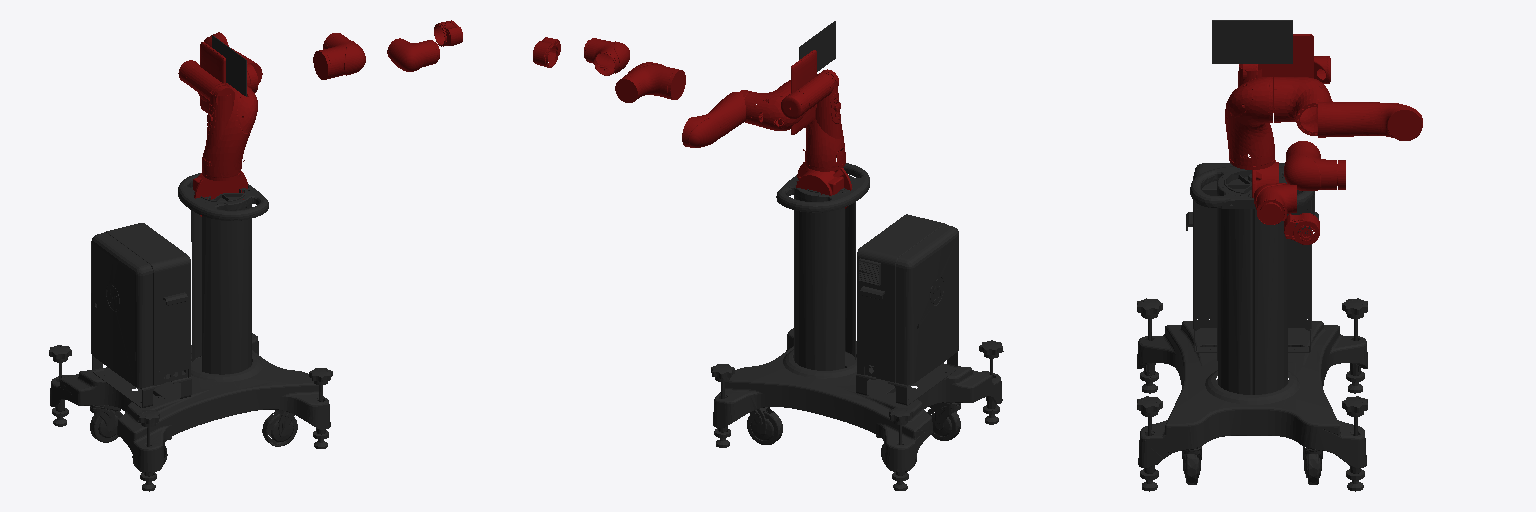
robot.urdf — sawyer:
<?xml version="1.0" ?>
<!-- =================================================================================== -->
<!-- |    This document was autogenerated by xacro from ./urdf.xacro                   | -->
<!-- |    EDITING THIS FILE BY HAND IS NOT RECOMMENDED                                 | -->
<!-- =================================================================================== -->
<robot name="sawyer" xmlns:xacro="http://www.ros.org/wiki/xacro">
  <material name="black">
    <color rgba="0 0 0 1"/>
  </material>
  <material name="darkgray">
    <color rgba=".2 .2 .2 1"/>
  </material>
  <material name="darkred">
    <color rgba=".5 .1 .1 1"/>
  </material>
  <material name="sawyer_red">
    <color rgba=".5 .1 .1 1"/>
  </material>
  <material name="sawyer_gray">
    <color rgba="0.75294 0.75294 0.75294 1"/>
  </material>
  <link name="base"/>
  <link name="torso">
    <visual>
      <origin rpy="0 0 0" xyz="0 0 0"/>
      <geometry>
        <box size="0 0 0"/>
      </geometry>
      <material name="darkgray">
        <color rgba=".2 .2 .2 1"/>
      </material>
    </visual>
    <inertial>
      <origin rpy="0 0 0" xyz="0.000000 0.000000 0.000000"/>
      <mass value="0.0001"/>
      <inertia ixx="1e-08" ixy="0" ixz="0" iyy="1e-08" iyz="0" izz="1e-08"/>
    </inertial>
  </link>
  <link name="pedestal">
    <visual>
      <origin rpy="1.57079632679 0 -1.57079632679" xyz="0.26 0.345 -0.91488"/>
      <geometry>
        <mesh filename="data/robot/rethink/sawyer_rs/sawyer/pedestal.obj"/>
      </geometry>
      <material name="darkgray"/>
    </visual>
    <collision>
      <origin rpy="0 0 0" xyz="0 0 -0.30"/>
      <geometry>
        <cylinder length="0.62" radius="0.18"/>
      </geometry>
    </collision>
    <inertial>
      <origin rpy="0 0 0" xyz="0 0 0"/>
      <mass value="60.86397744"/>
      <inertia ixx="5.0635929" ixy="0.00103417" ixz="0.80199628" iyy="6.08689388" iyz="0.00105311" izz="4.96191932"/>
    </inertial>
  </link>
  <link name="controller_box">
    <collision>
      <origin rpy="0 0 0" xyz="-0.325 0 -0.38"/>
      <geometry>
        <box size="0.22 0.4 0.53"/>
      </geometry>
    </collision>
  </link>
  <joint name="controller_box_fixed" type="fixed">
    <origin rpy="0 0 0" xyz="0.0 0.0 0.0"/>
    <parent link="base"/>
    <child link="controller_box"/>
  </joint>
  <link name="pedestal_feet">
    <collision>
      <origin rpy="0 0 0" xyz="-0.1225 0 -0.758"/>
      <geometry>
        <box size="0.77 0.7 0.31"/>
      </geometry>
    </collision>
  </link>
  <joint name="pedestal_feet_fixed" type="fixed">
    <origin rpy="0 0 0" xyz="0.0 0.0 0.0"/>
    <parent link="base"/>
    <child link="pedestal_feet"/>
  </joint>
  <joint name="torso_t0" type="fixed">
    <origin rpy="0 0 0" xyz="0 0 0"/>
    <parent link="base"/>
    <child link="torso"/>
  </joint>
  <joint name="pedestal_fixed" type="fixed">
    <origin rpy="0 0 0" xyz="0.0 0.0 0.0"/>
    <parent link="base"/>
    <child link="pedestal"/>
  </joint>
  <joint name="right_arm_mount" type="fixed">
    <origin rpy="0 0 0" xyz="0.0 0.0 0.0"/>
    <parent link="base"/>
    <child link="right_arm_base_link"/>
  </joint>
  <link name="right_arm_base_link">
    <inertial>
      <origin rpy="0 0 0" xyz="-0.0006241 -2.8025E-05 0.065404"/>
      <mass value="2.0687"/>
      <inertia ixx="0.0067599" ixy="-4.2024E-05" ixz="-6.1904E-07" iyy="0.0067877" iyz="1.5888E-05" izz="0.0074031"/>
    </inertial>
    <visual>
      <origin rpy="0 0 0" xyz="0 0 0"/>
      <geometry>
        <mesh filename="data/robot/rethink/sawyer/sawyer_graphics/base.obj"/>
      </geometry>
      <material name="sawyer_red"/>
    </visual>
    <collision>
      <origin rpy="0 0 0" xyz="0 0 0.12"/>
      <geometry>
        <cylinder length="0.24" radius="0.08"/>
      </geometry>
    </collision>
  </link>
  <link name="right_l0">
    <inertial>
      <origin rpy="0 0 0" xyz="0.024366 0.010969 0.14363"/>
      <mass value="5.3213"/>
      <inertia ixx="0.053314" ixy="0.0047093" ixz="0.011734" iyy="0.057902" iyz="0.0080179" izz="0.023659"/>
    </inertial>
    <visual>
      <origin rpy="0 0 0" xyz="0 0 0"/>
      <geometry>
        <mesh filename="data/robot/rethink/sawyer/sawyer_graphics/l0.obj"/>
      </geometry>
      <material name="sawyer_red"/>
    </visual>
    <collision>
      <origin rpy="0 0 0" xyz="0.081 0 0.237"/>
      <geometry>
        <sphere radius="0.07"/>
      </geometry>
    </collision>
  </link>
  <joint name="right_j0" type="revolute">
    <origin rpy="0 0 0" xyz="0 0 0.08"/>
    <parent link="right_arm_base_link"/>
    <child link="right_l0"/>
    <axis xyz="0 0 1"/>
    <limit effort="80.0" lower="-3.0503" upper="3.0503" velocity="1.74"/>
  </joint>
  <link name="head">
    <inertial>
      <origin rpy="0 0 0" xyz="0.0053207 -2.6549E-05 0.1021"/>
      <mass value="1.5795"/>
      <inertia ixx="0.011833" ixy="-4.4669E-06" ixz="4.9425E-05" iyy="0.0082709" iyz="4.2124E-07" izz="0.0049661"/>
    </inertial>
    <visual>
      <origin rpy="0 0 0" xyz="0 0 0"/>
      <geometry>
        <mesh filename="data/robot/rethink/sawyer/sawyer_graphics/head.obj"/>
      </geometry>
      <material name="sawyer_red"/>
    </visual>
    <collision>
      <origin rpy="0 0 0" xyz="0 0 0.08"/>
      <geometry>
        <sphere radius="0.18"/>
      </geometry>
    </collision>
  </link>
  <joint name="head_pan" type="revolute">
    <origin rpy="0 0 0" xyz="0 0 0.2965"/>
    <parent link="right_l0"/>
    <child link="head"/>
    <axis xyz="0 0 1"/>
    <limit effort="8" lower="-5.1477" upper="0.9559" velocity="1.8"/>
  </joint>
  <link name="right_torso_itb">
    <inertial>
      <origin rpy="0 0 0" xyz="0.000000 0.000000 0.000000"/>
      <mass value="0.0001"/>
      <inertia ixx="1e-08" ixy="0" ixz="0" iyy="1e-08" iyz="0" izz="1e-08"/>
    </inertial>
  </link>
  <joint name="right_torso_itb" type="fixed">
    <origin rpy="0 -1.57079632679 0" xyz="-.055 0 .22"/>
    <parent link="right_l0"/>
    <child link="right_torso_itb"/>
    <axis xyz="0 0 1"/>
  </joint>
  <link name="right_l1">
    <inertial>
      <origin rpy="0 0 0" xyz="-0.0030849 -0.026811 0.092521"/>
      <mass value="4.505"/>
      <inertia ixx="0.022398" ixy="-0.00023986" ixz="-0.00029362" iyy="0.014613" iyz="-0.0060875" izz="0.017295"/>
    </inertial>
    <visual>
      <origin rpy="0 0 0" xyz="0 0 0"/>
      <geometry>
        <mesh filename="data/robot/rethink/sawyer/sawyer_graphics/l1.obj"/>
      </geometry>
      <material name="sawyer_red"/>
    </visual>
    <collision>
      <origin rpy="0 0 0" xyz="0 0 0.1225"/>
      <geometry>
        <sphere radius="0.07"/>
      </geometry>
    </collision>
  </link>
  <joint name="right_j1" type="revolute">
    <origin rpy="-1.57079632679 1.57079632679 0" xyz="0.081 0.05 0.237"/>
    <parent link="right_l0"/>
    <child link="right_l1"/>
    <axis xyz="0 0 1"/>
    <limit effort="80.0" lower="-3.8183" upper="2.2824" velocity="1.328"/>
  </joint>
  <link name="right_l2">
    <inertial>
      <origin rpy="0 0 0" xyz="-0.00016232 -0.015346 0.13445"/>
      <mass value="1.7251"/>
      <inertia ixx="0.025176" ixy="4.3031E-06" ixz="1.4564E-05" iyy="0.024982" iyz="-0.0033928" izz="0.0033798"/>
    </inertial>
    <visual>
      <origin rpy="0 0 0" xyz="0 0 0"/>
      <geometry>
        <mesh filename="data/robot/rethink/sawyer/sawyer_graphics/l2.obj"/>
      </geometry>
      <material name="sawyer_red"/>
    </visual>
    <collision>
      <origin rpy="0 0 0" xyz="0 0 0.14"/>
      <geometry>
        <cylinder length="0.35" radius="0.06"/>
      </geometry>
    </collision>
  </link>
  <joint name="right_j2" type="revolute">
    <origin rpy="1.57079632679 0 0" xyz="0 -0.14 0.1425"/>
    <parent link="right_l1"/>
    <child link="right_l2"/>
    <axis xyz="0 0 1"/>
    <limit effort="40.0" lower="-3.0514" upper="3.0514" velocity="1.957"/>
  </joint>
  <link name="right_l3">
    <inertial>
      <origin rpy="0 0 0" xyz="-0.0046678 -0.028394 -0.083127"/>
      <mass value="2.4743"/>
      <inertia ixx="0.0099549" ixy="-1.7675E-05" ixz="0.00027521" iyy="0.0064248" iyz="0.0030853" izz="0.0067746"/>
    </inertial>
    <visual>
      <origin rpy="0 0 0" xyz="0 0 0"/>
      <geometry>
        <mesh filename="data/robot/rethink/sawyer/sawyer_graphics/l3.obj"/>
      </geometry>
      <material name="sawyer_red"/>
    </visual>
    <collision>
      <origin rpy="0 0 0" xyz="0 -0.01 -0.12"/>
      <geometry>
        <sphere radius="0.06"/>
      </geometry>
    </collision>
  </link>
  <joint name="right_j3" type="revolute">
    <origin rpy="-1.57079632679 0 0" xyz="0 -0.042 0.26"/>
    <parent link="right_l2"/>
    <child link="right_l3"/>
    <axis xyz="0 0 1"/>
    <limit effort="40.0" lower="-3.0514" upper="3.0514" velocity="1.957"/>
  </joint>
  <link name="right_l4">
    <inertial>
      <origin rpy="0 0 0" xyz="-0.0027794 0.0076558 0.13273"/>
      <mass value="1.0433"/>
      <inertia ixx="0.012913" ixy="2.573E-05" ixz="0.00017705" iyy="0.012939" iyz="0.0011152" izz="0.0012405"/>
    </inertial>
    <visual>
      <origin rpy="0 0 0" xyz="0 0 0"/>
      <geometry>
        <mesh filename="data/robot/rethink/sawyer/sawyer_graphics/l4.obj"/>
      </geometry>
      <material name="sawyer_red"/>
    </visual>
    <collision>
      <origin rpy="0 0 0" xyz="0 0 0.14"/>
      <geometry>
        <cylinder length="0.36" radius="0.045"/>
      </geometry>
    </collision>
  </link>
  <joint name="right_j4" type="revolute">
    <origin rpy="1.57079632679 0 0" xyz="0 -0.125 -0.1265"/>
    <parent link="right_l3"/>
    <child link="right_l4"/>
    <axis xyz="0 0 1"/>
    <limit effort="9.0" lower="-2.9842" upper="2.9842" velocity="3.485"/>
  </joint>
  <link name="right_arm_itb">
    <inertial>
      <origin rpy="0 0 0" xyz="0.000000 0.000000 0.000000"/>
      <mass value="0.0001"/>
      <inertia ixx="1e-08" ixy="0" ixz="0" iyy="1e-08" iyz="0" izz="1e-08"/>
    </inertial>
  </link>
  <joint name="right_arm_itb" type="fixed">
    <origin rpy="0 -1.57079632679 0" xyz="-.055 0 .075"/>
    <parent link="right_l4"/>
    <child link="right_arm_itb"/>
    <axis xyz="0 0 1"/>
  </joint>
  <link name="right_l5">
    <inertial>
      <origin rpy="0 0 0" xyz="0.0062067 -0.024291 0.075564"/>
      <mass value="1.5343"/>
      <inertia ixx="0.0046072" ixy="0.00012002" ixz="5.3065E-05" iyy="0.0028725" iyz="-0.0011886" izz="0.003101"/>
    </inertial>
    <visual>
      <origin rpy="0 0 0" xyz="0 0 0"/>
      <geometry>
        <mesh filename="data/robot/rethink/sawyer/sawyer_graphics/l5.obj"/>
      </geometry>
      <material name="sawyer_red"/>
    </visual>
    <collision>
      <origin rpy="0 0 0" xyz="0.01 0 0.09"/>
      <geometry>
        <sphere radius="0.06"/>
      </geometry>
    </collision>
  </link>
  <joint name="right_j5" type="revolute">
    <origin rpy="-1.57079632679 0 0" xyz="0 0.031 0.275"/>
    <parent link="right_l4"/>
    <child link="right_l5"/>
    <axis xyz="0 0 1"/>
    <limit effort="9.0" lower="-2.9842" upper="2.9842" velocity="3.485"/>
  </joint>
  <link name="right_hand_camera"/>
  <joint name="right_hand_camera" type="fixed">
    <origin rpy="0 1.57079632679 0" xyz="0.039552 -0.033 0.0695"/>
    <parent link="right_l5"/>
    <child link="right_hand_camera"/>
    <axis xyz="0 0 0"/>
  </joint>
  <link name="right_wrist"/>
  <joint name="right_wrist" type="fixed">
    <origin rpy="1.57079632679 0 0" xyz="0 0 0.10541"/>
    <parent link="right_l5"/>
    <child link="right_wrist"/>
    <axis xyz="0 0 0"/>
  </joint>
  <link name="right_l6">
    <inertial>
      <origin rpy="0 0 0" xyz="-8.0726E-06 0.0085838 -0.0049566"/>
      <mass value="0.3292"/>
      <inertia ixx="0.00031105" ixy="1.4771E-06" ixz="-3.7074E-07" iyy="0.00021549" iyz="-8.4533E-06" izz="0.00035976"/>
    </inertial>
    <visual>
      <origin rpy="0 0 0" xyz="0 0 0"/>
      <geometry>
        <mesh filename="data/robot/rethink/sawyer/sawyer_graphics/l6.obj"/>
      </geometry>
      <material name="sawyer_red"/>
    </visual>
    <collision>
      <origin rpy="0 0 0" xyz="0 0 -0.005"/>
      <geometry>
        <cylinder length="0.05" radius="0.065"/>
      </geometry>
    </collision>
  </link>
  <joint name="right_j6" type="revolute">
    <origin rpy="-1.57079632679 -0.17453 3.1416" xyz="0 -0.11 0.1053"/>
    <parent link="right_l5"/>
    <child link="right_l6"/>
    <axis xyz="0 0 1"/>
    <limit effort="9.0" lower="-4.7104" upper="4.7104" velocity="4.545"/>
  </joint>
  <link name="right_hand">
    <collision>
      <origin rpy="0 0 0" xyz="0 0 0.02"/>
      <geometry>
        <cylinder length="0.04" radius="0.06"/>
      </geometry>
    </collision>
    <inertial>
      <origin rpy="0 0 0" xyz="1.0E-08 1.0E-08 1.0E-08"/>
      <mass value="1.0E-08"/>
      <inertia ixx="1.0E-08" ixy="1.0E-08" ixz="1.0E-08" iyy="1.0E-08" iyz="1.0E-08" izz="1.0E-08"/>
    </inertial>
  </link>
  <joint name="right_hand" type="fixed">
    <origin rpy="0 0 1.570796" xyz="0 0 0.0245"/>
    <axis xyz="0 0 1"/>
    <parent link="right_l6"/>
    <child link="right_hand"/>
  </joint>
  <link name="screen">
    <visual>
      <origin rpy="0 0 0" xyz="0 0 0"/>
      <geometry>
        <box size="0.24 0.14 0.002"/>
      </geometry>
      <material name="darkgray"/>
    </visual>
    <collision>
      <origin rpy="0 0 0" xyz="0 0 0"/>
      <geometry>
        <sphere radius="0.001"/>
      </geometry>
    </collision>
    <inertial>
      <origin rpy="0 0 0" xyz="0 0 0"/>
      <mass value="0.0001"/>
      <inertia ixx="1e-08" ixy="0" ixz="0" iyy="1e-08" iyz="0" izz="1e-08"/>
    </inertial>
  </link>
  <joint name="display_joint" type="fixed">
    <origin rpy="1.57079632679 0 1.57079632679" xyz="0.03 0.0 0.105"/>
    <parent link="head"/>
    <child link="screen"/>
  </joint>
  <link name="head_camera"/>
    <joint name="head_camera" type="fixed">
      <origin rpy="-2.1293 0 -1.57079632679" xyz="0.0228027 0 0.216572"/>
      <parent link="head"/>
      <child link="head_camera"/>
      <axis xyz="0 0 0"/>
    </joint>
</robot>

--- Facts derived from the render (not from the file) ---
Views: 3 orthographic renders of the robot side by side, from view 1: azimuth 30°, elevation 25°; view 2: azimuth 150°, elevation 25°; view 3: azimuth 270°, elevation 25°.
Robot: sawyer — 21 links, 20 joints (8 revolute, 12 fixed); root link base; default pose: every joint at zero.
Links seen in each view (by area): view 1: pedestal, right_l0, head, right_l3, right_l5, screen, right_arm_base_link, right_l6; view 2: pedestal, right_l0, head, right_l3, right_l2, right_l1, right_l5, right_arm_base_link, screen, right_l6; view 3: pedestal, right_l0, screen, right_l2, right_l1, right_l3, head, right_l5, right_l6, right_arm_base_link.
Link boxes in pixels (x1,y1,x2,y2): pedestal: (49,173,332,491); right_l0: (202,84,257,180); head: (178,42,234,113); right_l3: (313,33,365,79); right_l5: (387,38,439,71); screen: (212,35,246,96); right_arm_base_link: (193,171,247,216); right_l6: (434,20,462,46); pedestal: (711,163,1003,490); right_l0: (780,80,845,171); head: (781,50,838,134); right_l3: (615,62,685,102); right_l2: (682,92,751,147); right_l1: (740,81,811,130); right_l5: (584,38,629,75); right_arm_base_link: (796,162,851,208); screen: (799,21,835,71); right_l6: (533,37,560,67); pedestal: (1137,163,1367,491); right_l0: (1225,64,1274,169); screen: (1212,20,1292,63); right_l2: (1318,102,1422,140); right_l1: (1270,77,1332,135); right_l3: (1284,141,1345,190); head: (1243,34,1330,112); right_l5: (1254,183,1296,224); right_l6: (1284,213,1319,244); right_arm_base_link: (1252,160,1278,197).
Bounding box of the posed robot: 1.53 × 0.8483 × 1.46 m (x, y, z).
Meshes: 10 distinct files referenced, 9 mesh visuals loaded (9 OBJ); not drawn: 1 (reference not matched to a file when rendering).
